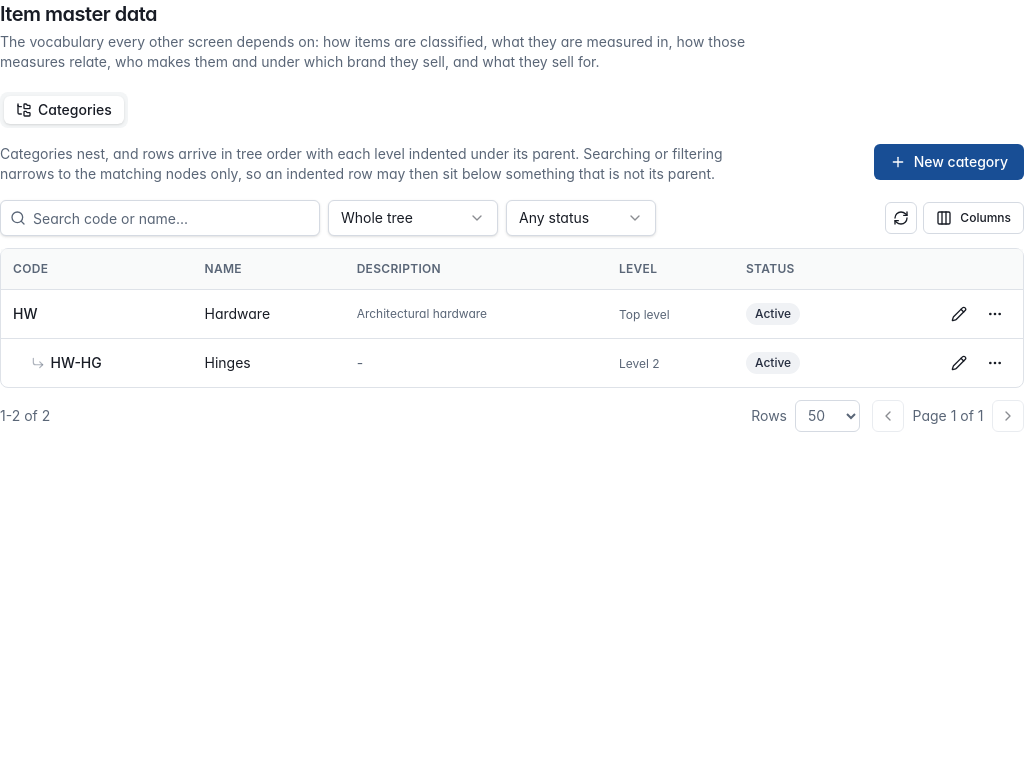
Test: the category tree › puts a 422 back on the field that caused it
The width and height of the screenshot is (1024, 768).
Expected: the text "Hardware" is shown, x1=204 y1=304 x2=270 y2=322
Click the button "New category" at (949,162), box x1=874 y1=144 x2=1023 y2=180
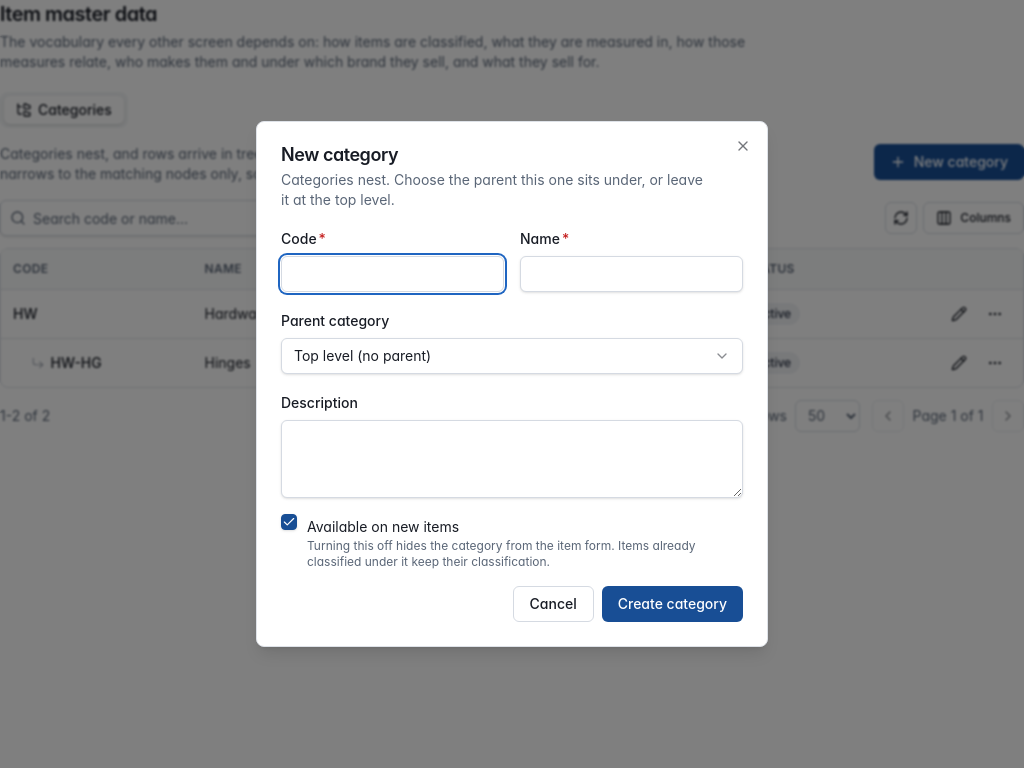
Type "HW" into the field labelled "Code" at (392,274), box x1=281 y1=256 x2=504 y2=292
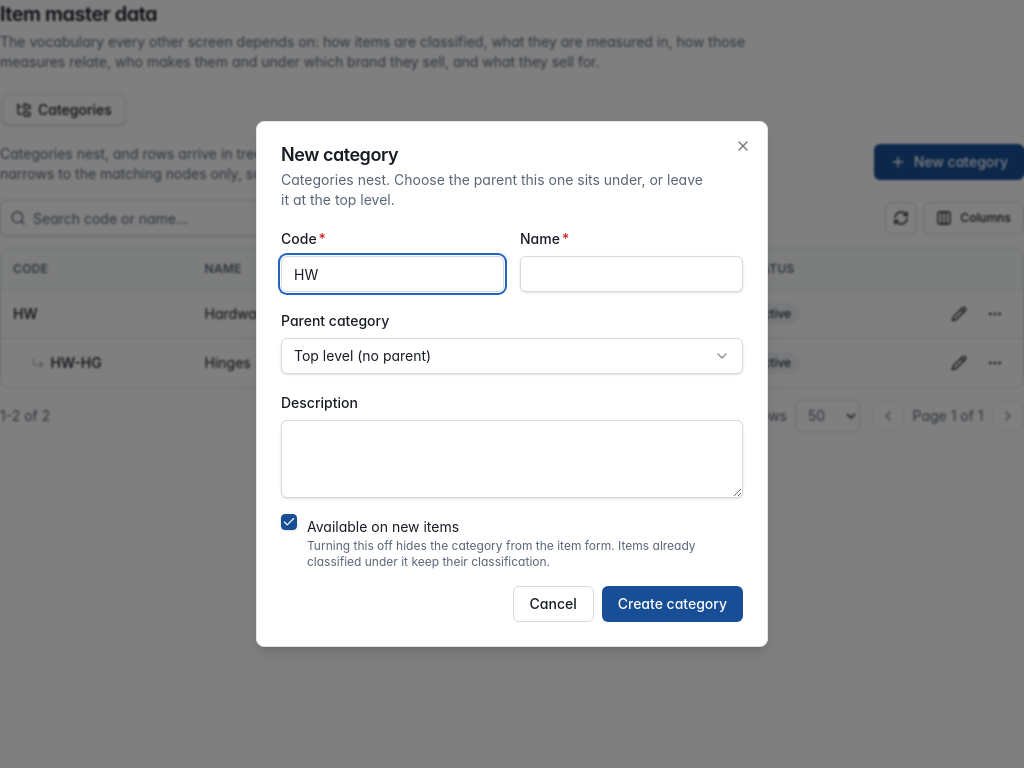
Type "Hardware again" into the field labelled "Name" at (632,274), box x1=520 y1=256 x2=743 y2=292
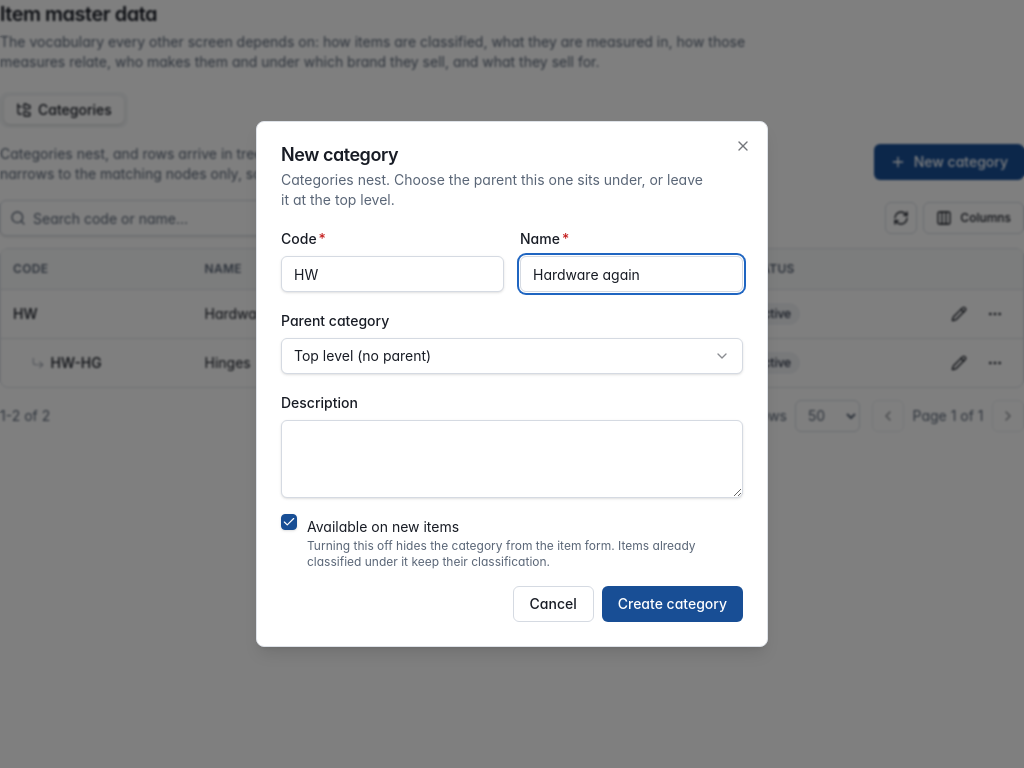
Click the button "Create category" at (672,604), box x1=602 y1=586 x2=743 y2=622
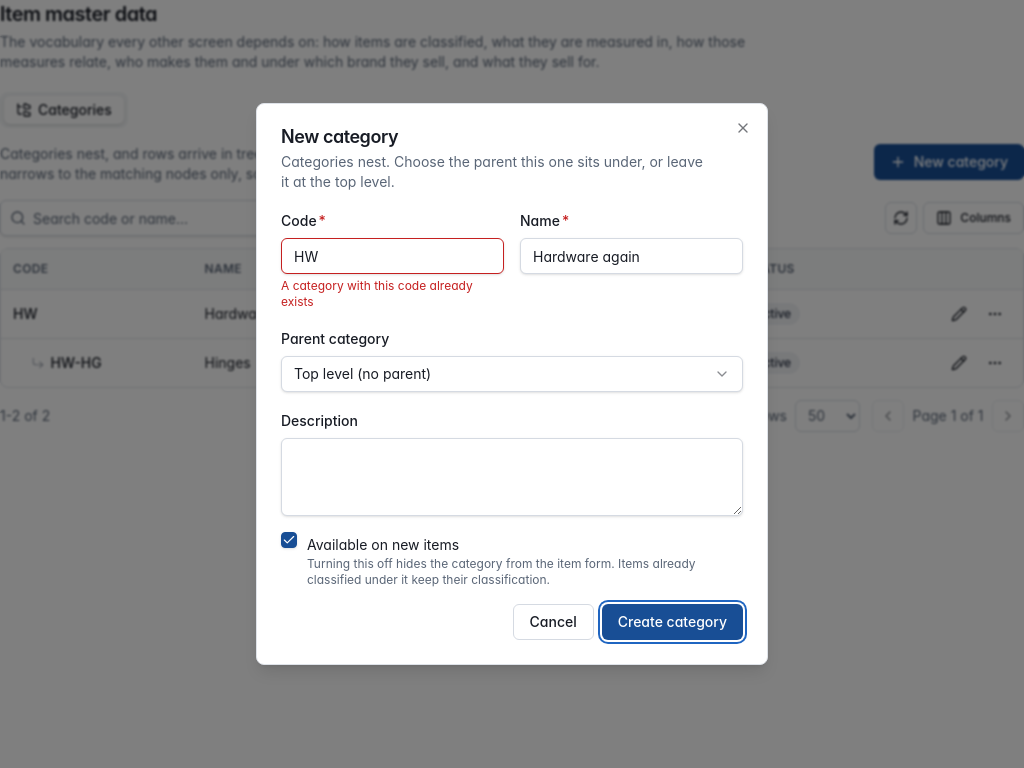
Expected: the message reads "A category with this code already exists", x1=281 y1=278 x2=473 y2=309
